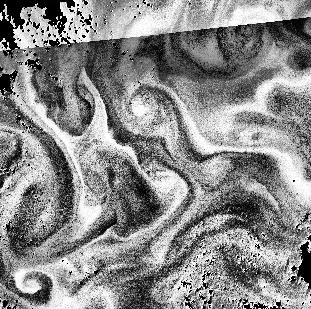CE: (121, 78, 173, 132), (228, 9, 269, 50), (13, 269, 55, 307)
